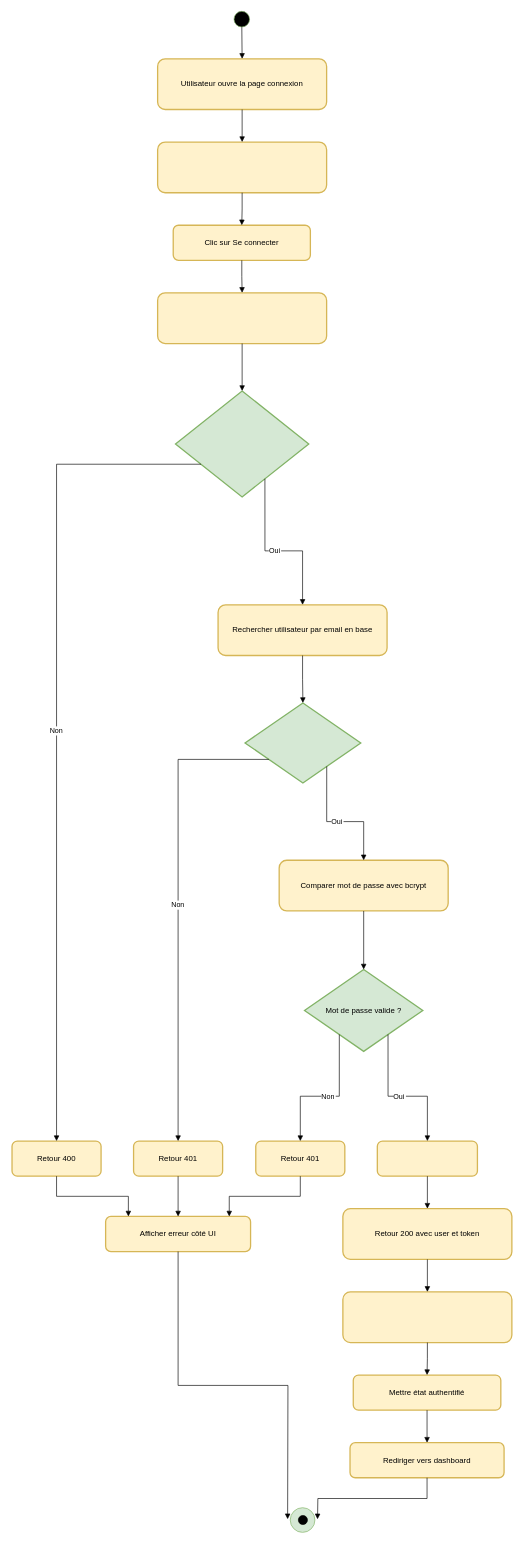
This 523x1544 diagram has some shape labels left out. Here are the shapes that lost their labels. From the top down, the centre of each, then its label:
At point (242, 167): "Saisie email et mot de passe".
At point (242, 318): "Frontend envoie POST /api/auth/login".
At point (242, 443): "Email et mot de passe présents ?".
At point (302, 742): "Utilisateur trouvé ?".
At point (427, 1158): "Générer JWT".
At point (427, 1317): "Stocker token dans localStorage".
